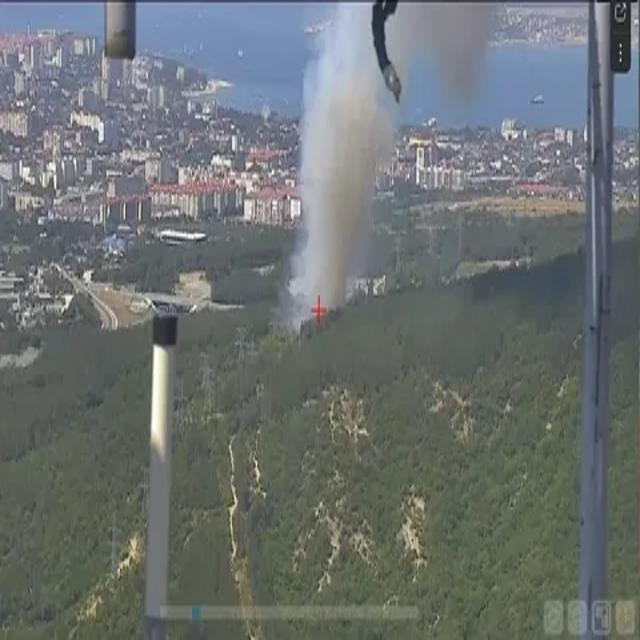Smoke: (285, 0, 495, 312)
